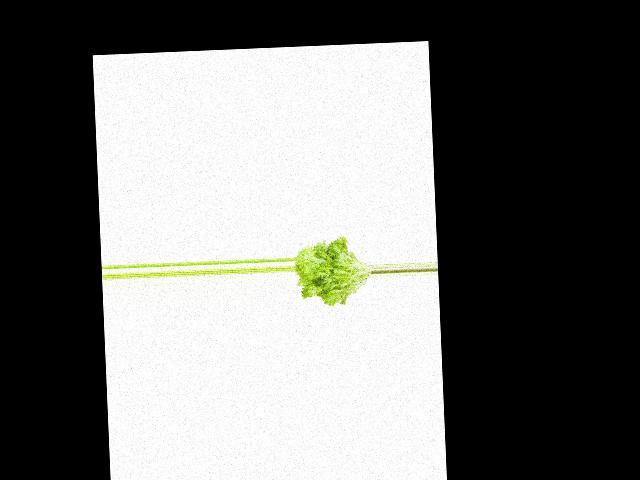lettuce: (293, 235, 374, 310)
